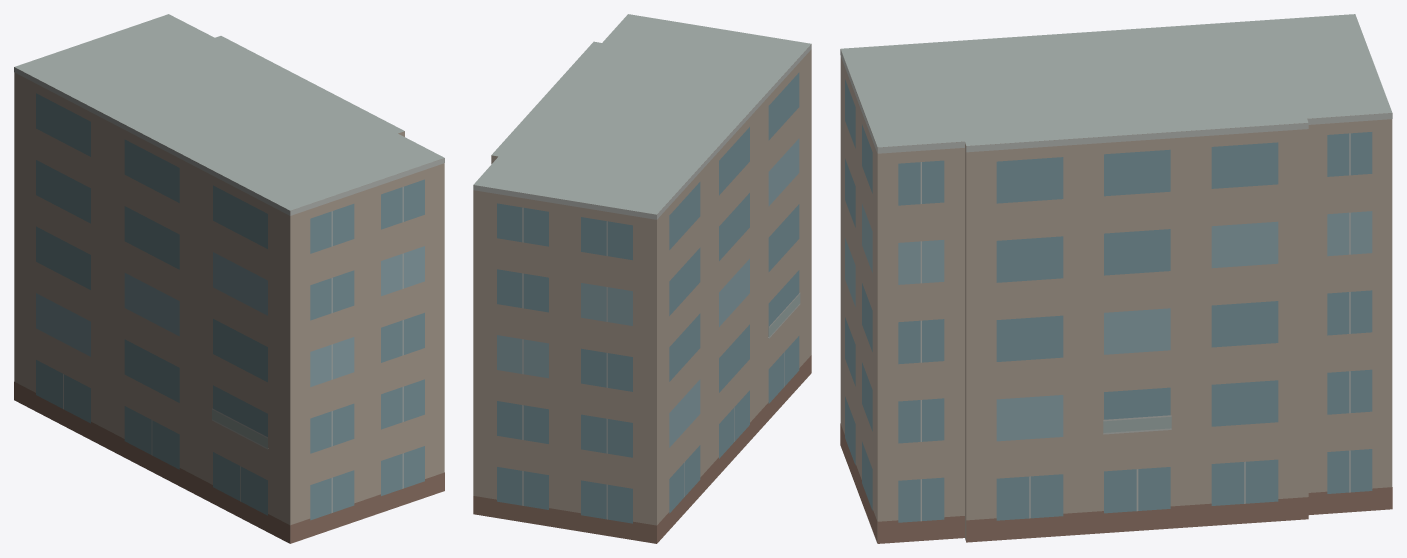
File: survey-upis-32549441.glb
3 views of the same model, side by side, from view 1: azimuth 30°, elevation 25°; view 2: azimuth 150°, elevation 25°; view 3: azimuth 270°, elevation 25° (orthographic). The views are drawn at different scales.
Parts seen in each view (by area): view 1: survey-upis-32549441.tmp; view 2: survey-upis-32549441.tmp; view 3: survey-upis-32549441.tmp.
Boxes of the visible parts, x1=… form: survey-upis-32549441.tmp: x1=14, y1=14, x2=444, y2=543; survey-upis-32549441.tmp: x1=473, y1=14, x2=811, y2=543; survey-upis-32549441.tmp: x1=840, y1=14, x2=1392, y2=543.
Bounding box in the file's own units: 11.13 × 15.4 × 19.45.
